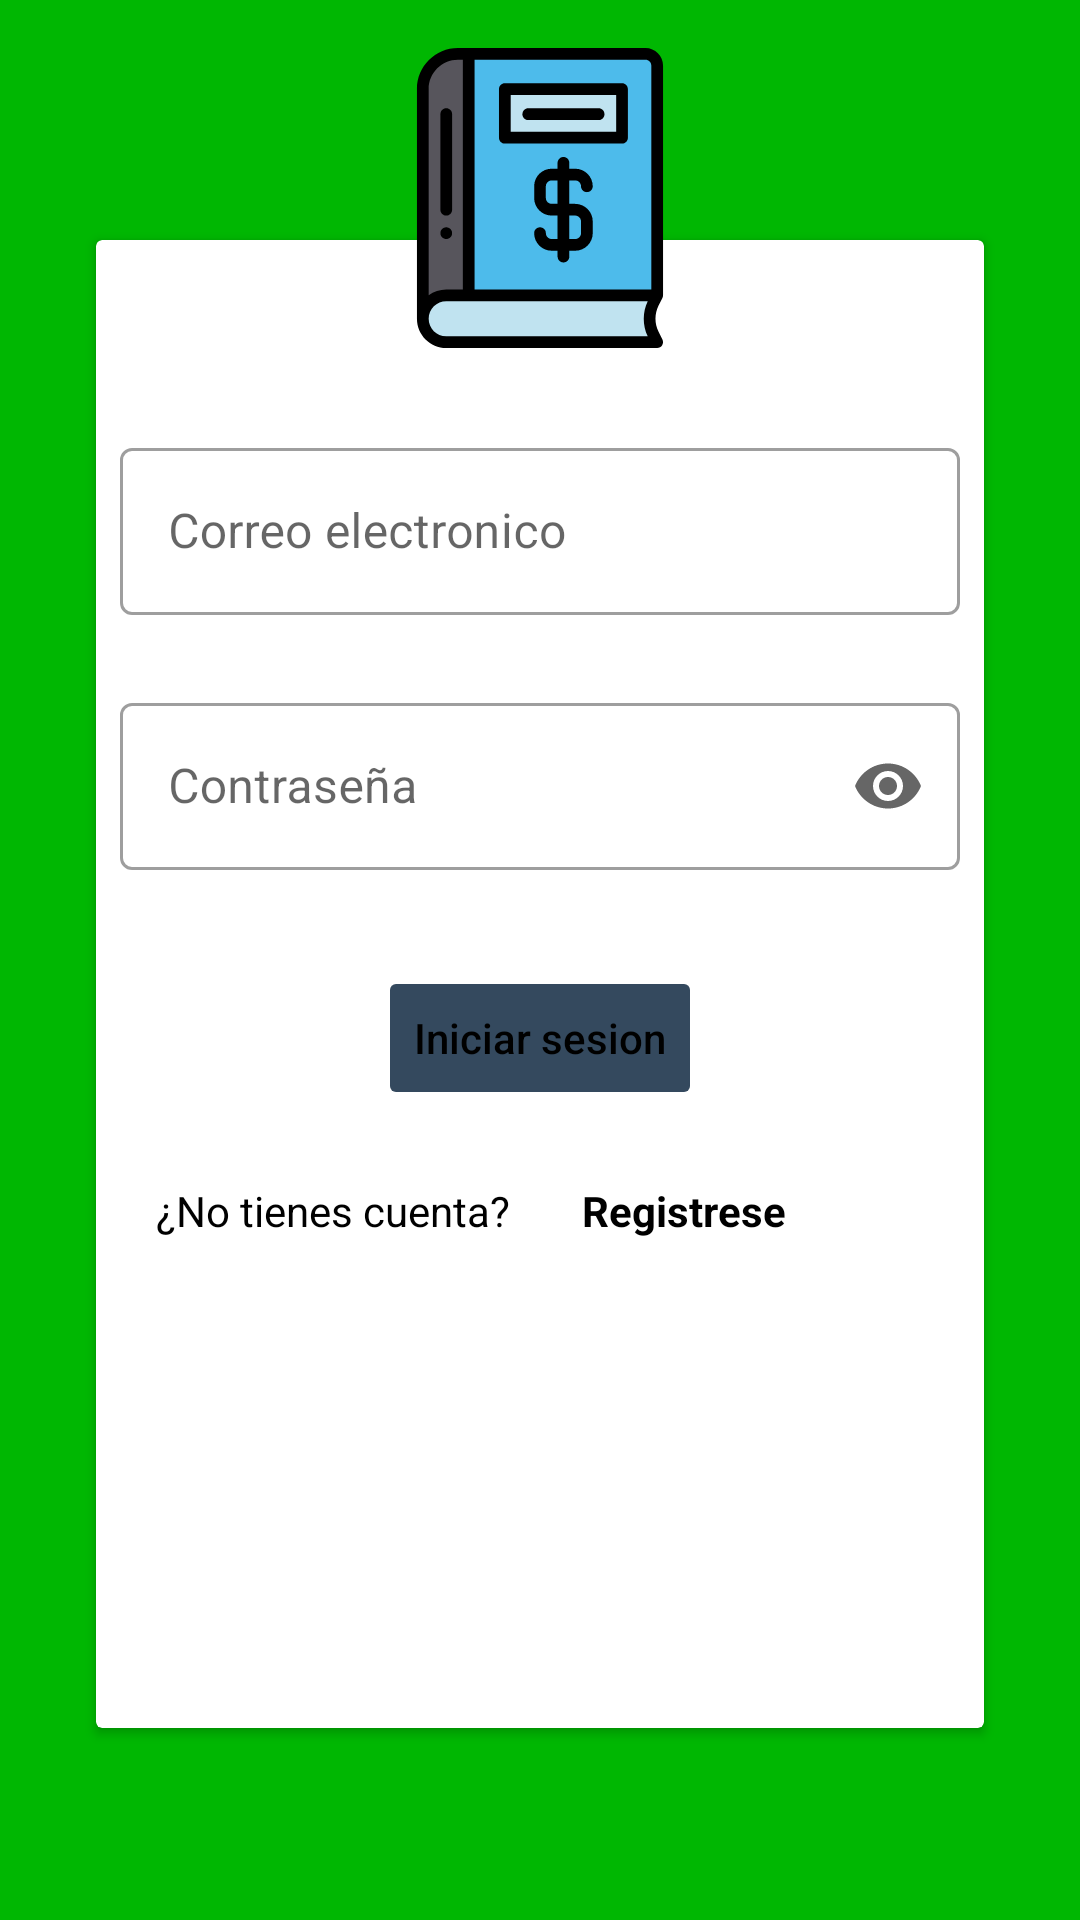

Point at icon controls on the screen. Image size 1080×1920, points as (x,y).
debtor: (540,198)
